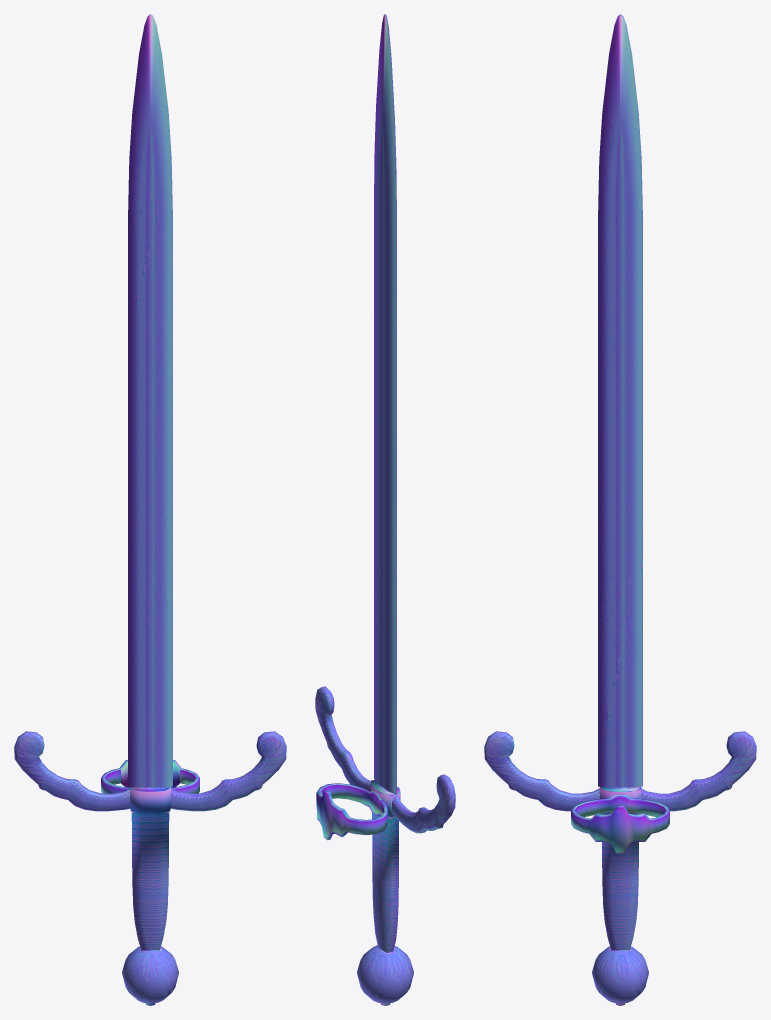
The model's file is SM_SwordA.fbx.
The picture shows the model from 3 angles, left to right: view 1: azimuth 90°, elevation 25°; view 2: azimuth 210°, elevation 25°; view 3: azimuth 270°, elevation 25°; orthographic projection.
Visible parts, largest first — view 1: SM_SwordA; view 2: SM_SwordA; view 3: SM_SwordA.
Boxes of the visible parts, x1,y1,x2,y2 form: SM_SwordA: (14,14,286,1005); SM_SwordA: (315,14,455,1005); SM_SwordA: (484,14,756,1005).
Size of the model in its own units: 11.4 by 127 by 31.78.
Materials: 1 (1 with a texture image).
